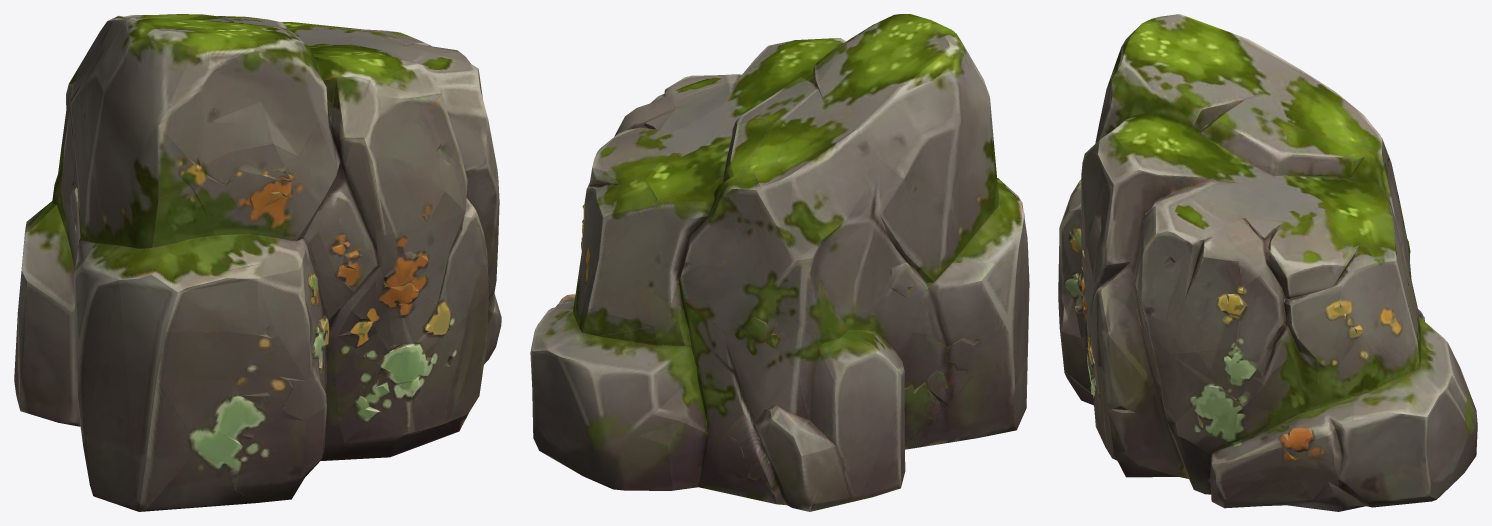
Rendered from rock.glb.
3 views of the same model, side by side, from view 1: azimuth 30°, elevation 25°; view 2: azimuth 150°, elevation 25°; view 3: azimuth 270°, elevation 25° (orthographic). The views are drawn at different scales.
Bounding box in the file's own units: 1.9 × 1.75 × 1.86.
Materials: 1 (1 with a texture image).
